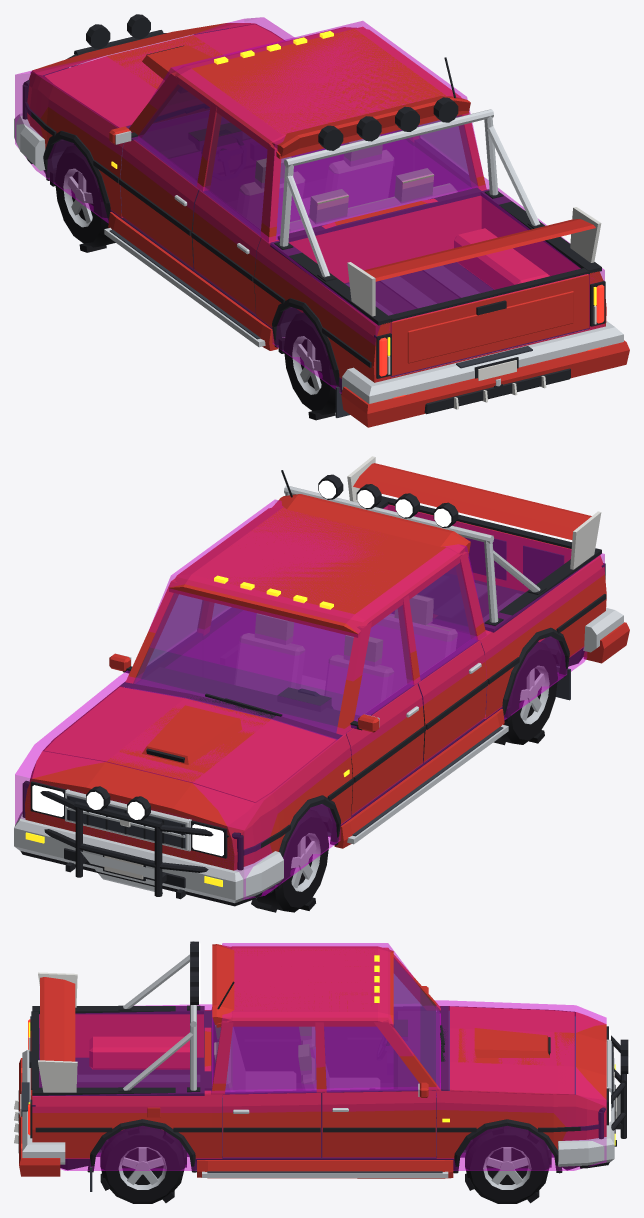
File: pickup.glb
The picture shows the model from 3 angles, top to bottom: view 1: azimuth 30°, elevation 25°; view 2: azimuth 150°, elevation 25°; view 3: azimuth 270°, elevation 25°; orthographic projection. The views are drawn at different scales.
Parts seen in each view (by area): view 1: Body, Col_Body, Col_Cabin, Tailgate, Glass_Rear, Glass_L, Hood, Mod_Roof_A, Door_FL, Mod_BumperR_A, Door_RL, Mod_Spoiler_B (+10 smaller); view 2: Body, Col_Cabin, Col_Body, Glass_Windshield, Hood, Glass_L, Mod_Spoiler_B, Door_FL, Mod_BumperF_A, Door_RL, Tailgate, Mod_Roof_A (+11 smaller); view 3: Body, Col_Body, Col_Cabin, Glass_R, Hood, Door_FR, Door_RR, Wheel_FR, Wheel_RR, Mod_Spoiler_B, Glass_Windshield, Mod_Skirts_A (+10 smaller).
Boxes of the visible parts, bbox=[...] form: Body: bbox=[14, 23, 623, 417]; Col_Body: bbox=[15, 17, 604, 393]; Col_Cabin: bbox=[138, 21, 483, 239]; Tailgate: bbox=[389, 268, 589, 375]; Glass_Rear: bbox=[276, 115, 477, 239]; Glass_L: bbox=[138, 84, 266, 232]; Hood: bbox=[44, 24, 283, 127]; Mod_Roof_A: bbox=[274, 97, 544, 281]; Door_FL: bbox=[109, 126, 198, 268]; Mod_BumperR_A: bbox=[341, 340, 629, 427]; Door_RL: bbox=[191, 190, 261, 314]; Mod_Spoiler_B: bbox=[347, 207, 601, 316]; Body: bbox=[14, 470, 623, 906]; Col_Cabin: bbox=[126, 499, 483, 739]; Col_Body: bbox=[15, 505, 604, 899]; Glass_Windshield: bbox=[134, 593, 353, 732]; Hood: bbox=[44, 687, 336, 802]; Glass_L: bbox=[354, 563, 475, 720]; Mod_Spoiler_B: bbox=[347, 456, 601, 569]; Door_FL: bbox=[346, 683, 425, 815]; Mod_BumperF_A: bbox=[22, 780, 243, 896]; Door_RL: bbox=[418, 639, 488, 762]; Tailgate: bbox=[387, 498, 572, 592]; Mod_Roof_A: bbox=[284, 474, 546, 626]; Body: bbox=[18, 946, 616, 1191]; Col_Body: bbox=[32, 1000, 606, 1170]; Col_Cabin: bbox=[212, 943, 440, 1097]; Glass_R: bbox=[225, 1027, 418, 1093]; Hood: bbox=[450, 1006, 574, 1094]; Door_FR: bbox=[322, 1082, 435, 1157]; Door_RR: bbox=[223, 1090, 320, 1157]; Wheel_FR: bbox=[465, 1125, 551, 1203]; Wheel_RR: bbox=[100, 1125, 186, 1203]; Mod_Spoiler_B: bbox=[38, 972, 77, 1092]; Glass_Windshield: bbox=[394, 959, 439, 1086]; Mod_Skirts_A: bbox=[197, 1160, 453, 1178].
Size of what is drawn, in the model's own units: 2.22 by 2.14 by 5.58.
